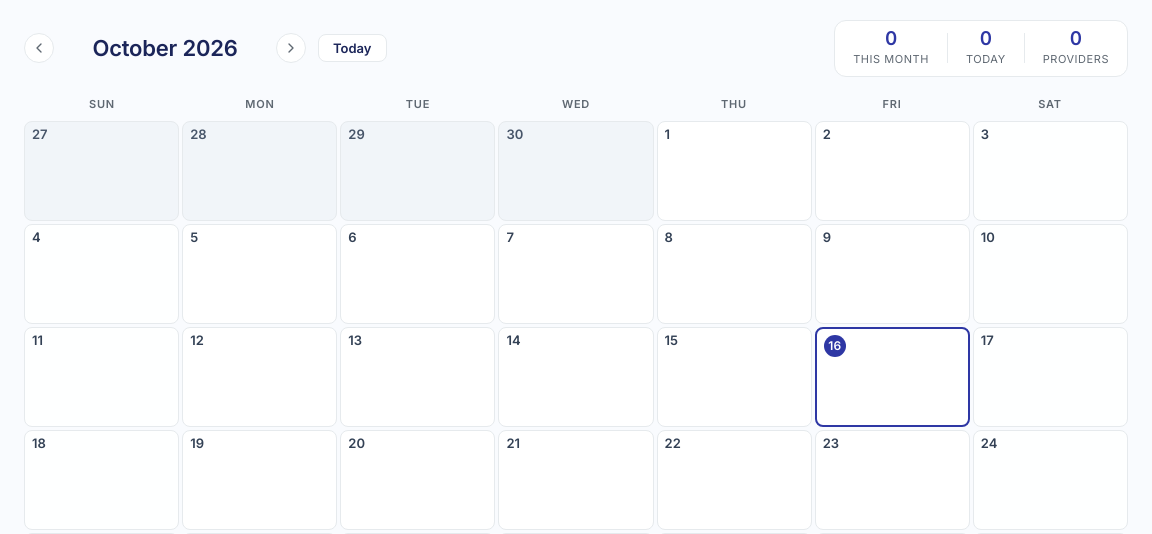
Test case: appointment creation entry points › offers appointment creation after selecting an empty Calendar day
What coordinates should you click on to do the following:
click the button "15"
I would click on:
 (734, 377)
Its box is [657, 327, 812, 427].
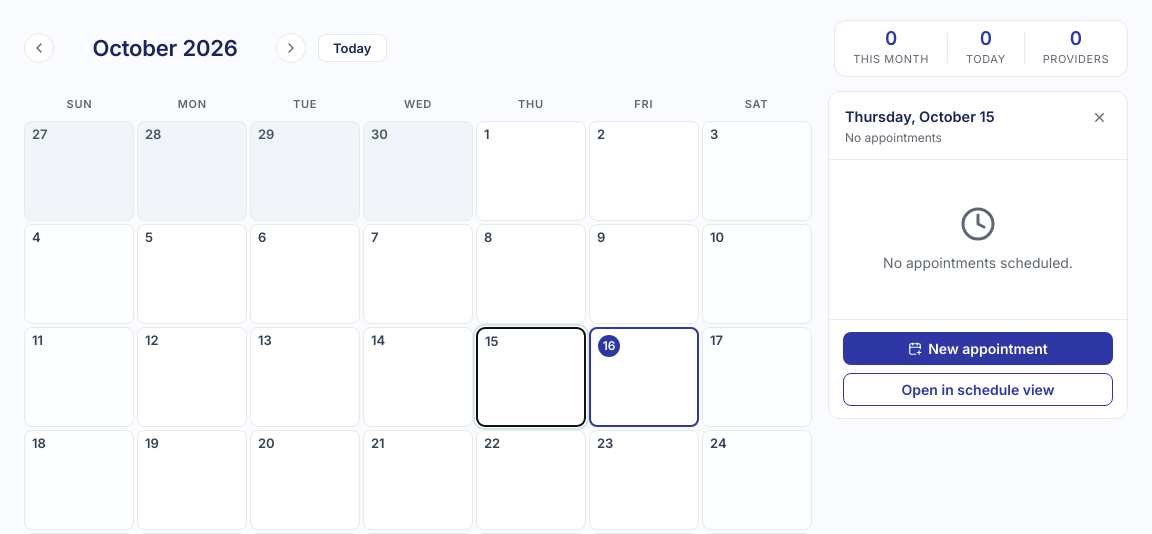
Result: the text "No appointments scheduled." is shown at [883, 252, 1073, 273]
What coordinates should you click on to do the following:
click the button "New appointment"
I would click on:
 (978, 349)
Its box is [843, 332, 1113, 365].
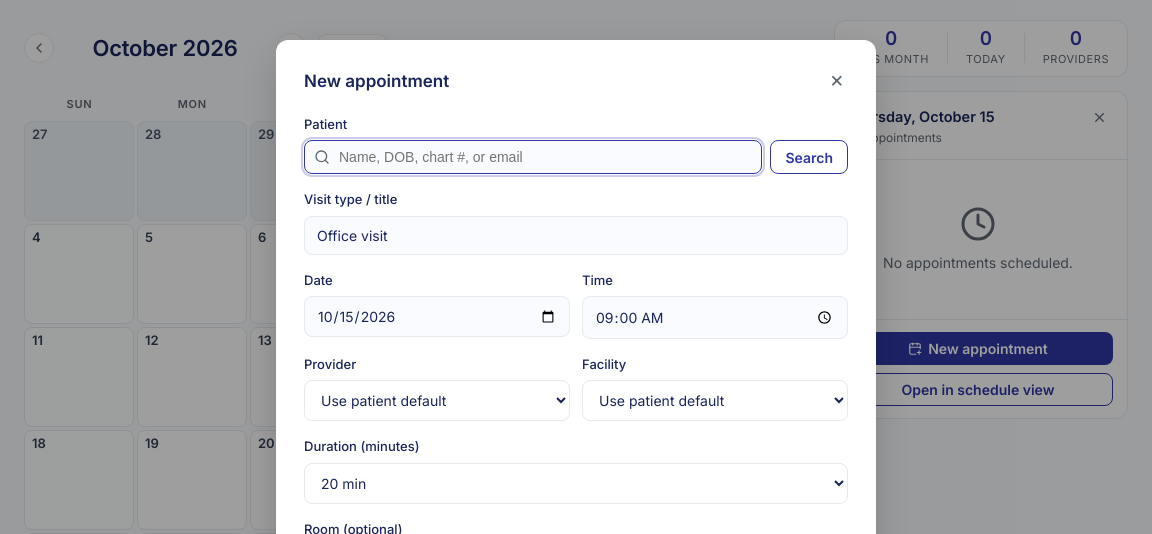
Result: the search field named "Search patients for appointment" is shown at [304, 140, 762, 174]
